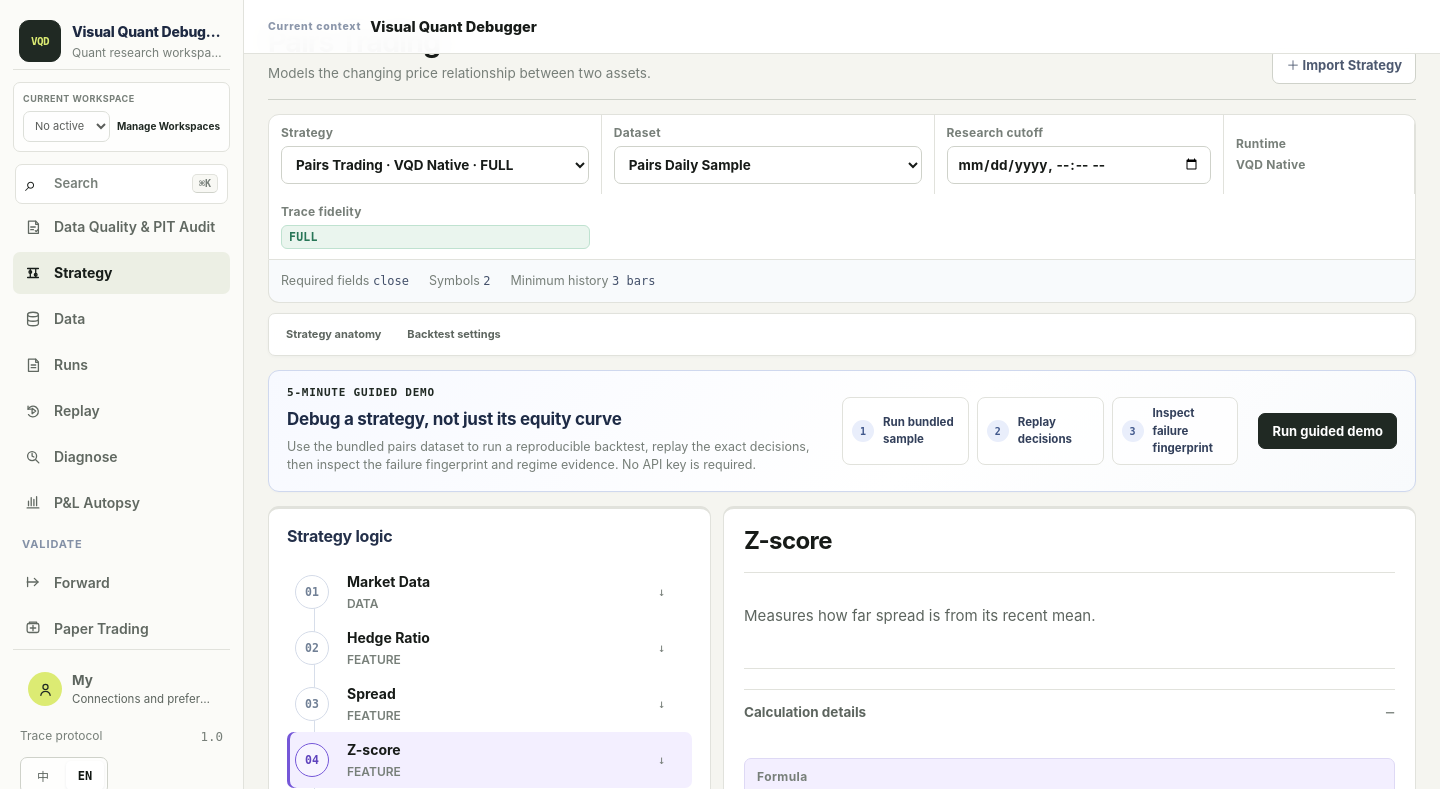
Test case: keeps Diagnose empty until a Strategy run establishes the active trace
(page scrolled)
Expected: the heading "Pairs Trading" is shown, [268,24,440,59]
Click the button "Diagnose".
click(122, 456)  # box [13,436,230,478]
(page scrolled)
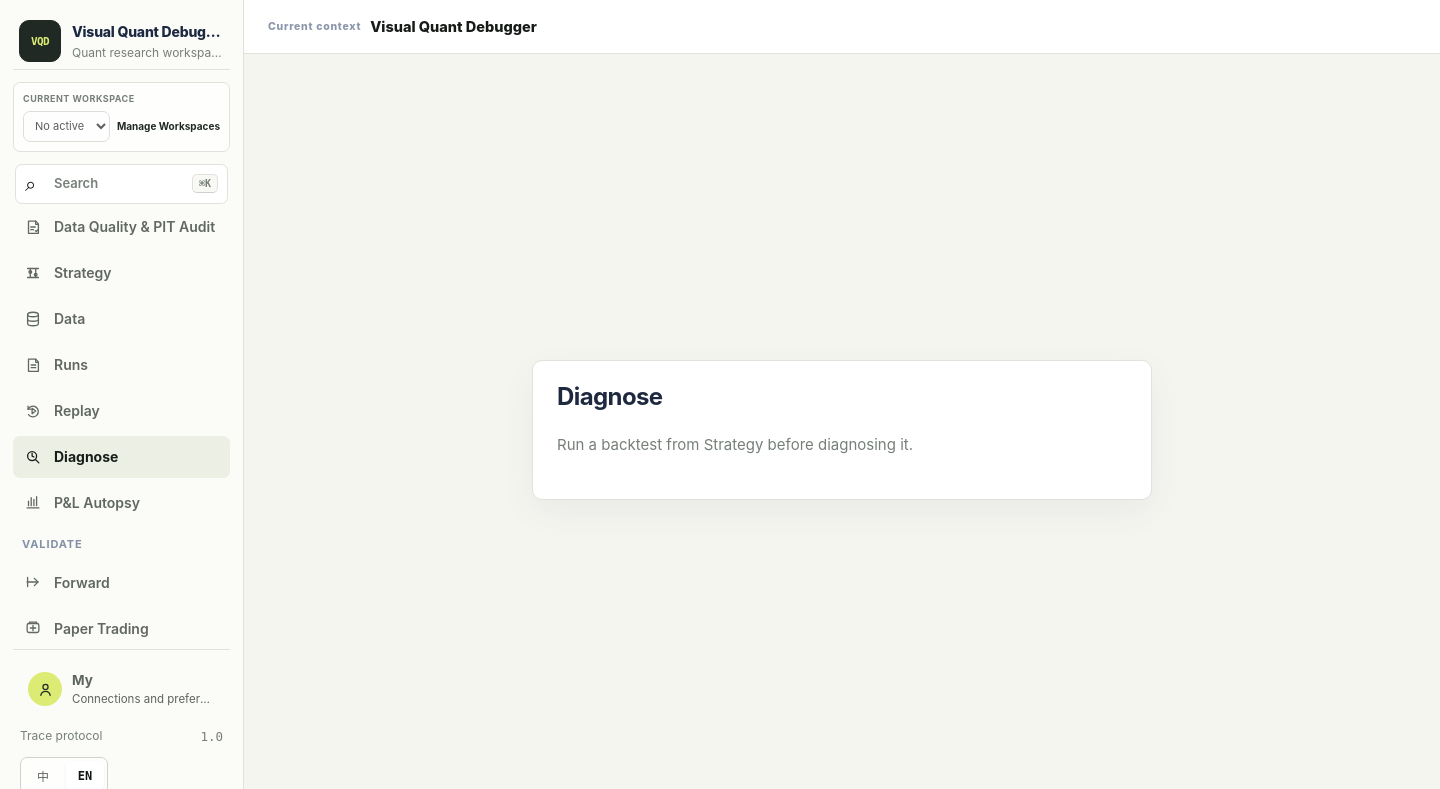
Expected: the text "Run a backtest from Strategy before diagnosing it." is shown, [557,435,913,454]
